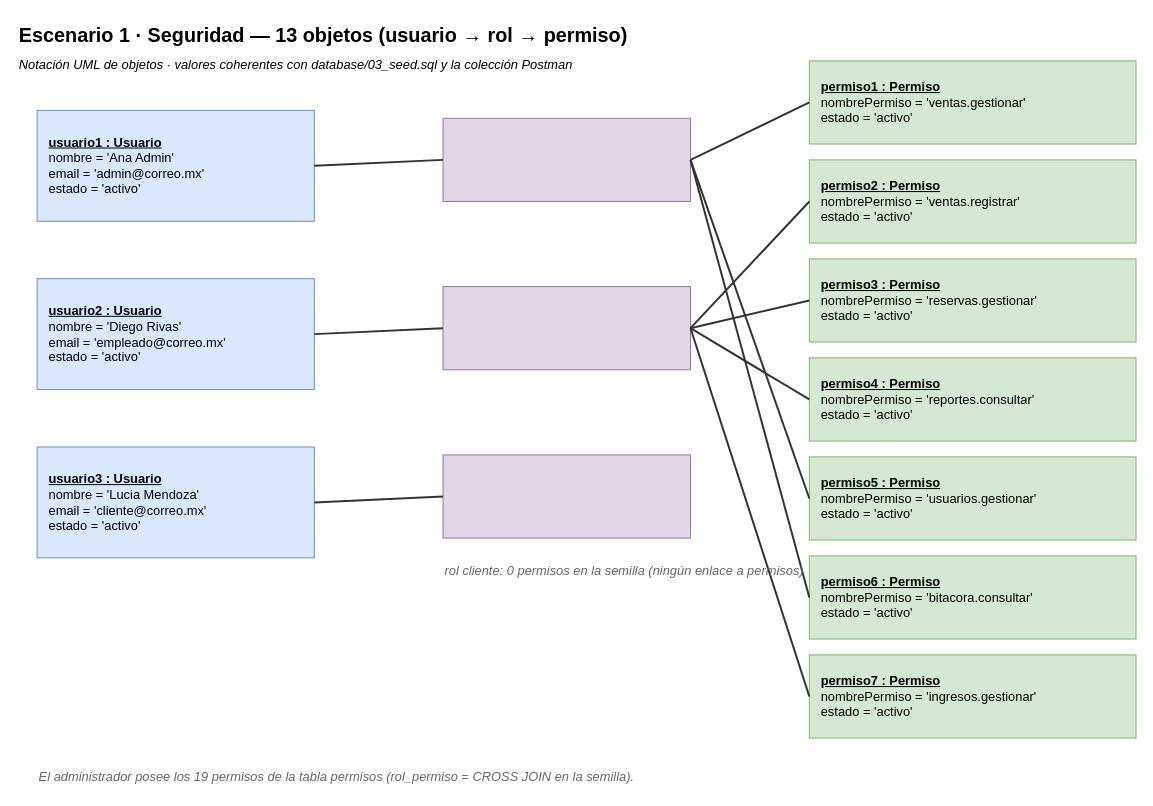
Image size: 1153x806. Some labels were removed from this diagram. Here are the shapes that lost their labels. From the top down, the box of each, then its label:
(442, 117, 691, 201): rol1 : Rol nombreRol = 'administrador' estado = 'activo'
(442, 286, 691, 370): rol2 : Rol nombreRol = 'empleado' estado = 'activo'
(442, 454, 691, 538): rol3 : Rol nombreRol = 'cliente' estado = 'activo'
